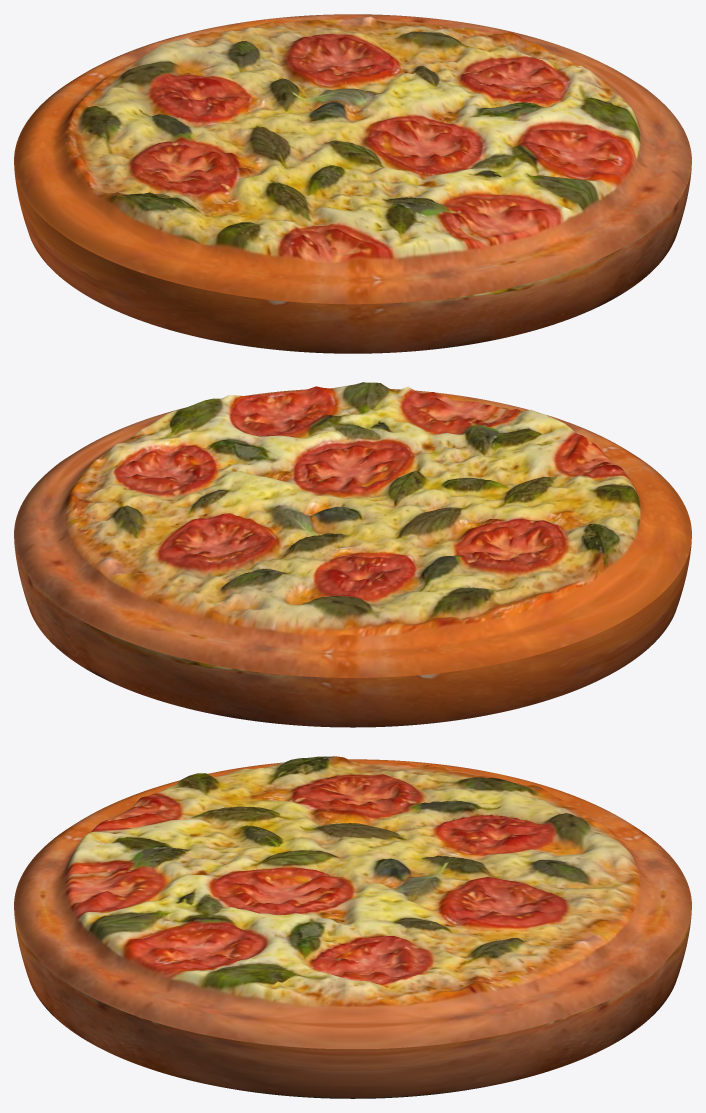
File: napolitana.glb
The picture shows the model from 3 angles, top to bottom: view 1: azimuth 30°, elevation 25°; view 2: azimuth 150°, elevation 25°; view 3: azimuth 270°, elevation 25°; orthographic projection.
Visible parts, largest first — view 1: Napolitana; view 2: Napolitana; view 3: Napolitana.
Boxes of the visible parts, x1=… form: Napolitana: x1=14, y1=14, x2=691, y2=353; Napolitana: x1=14, y1=382, x2=691, y2=727; Napolitana: x1=14, y1=756, x2=691, y2=1098.
Size of the model in its own units: 0.36 by 0.0549 by 0.36.
2 materials, 2 textured.
